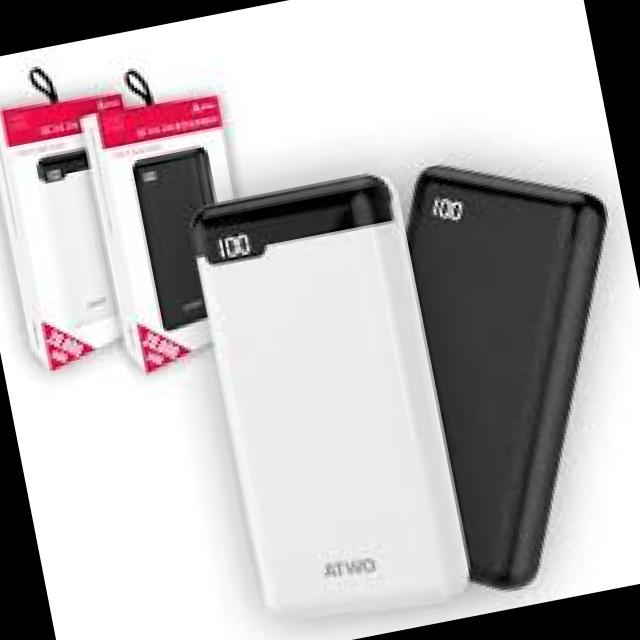power_bank: (189, 166, 481, 640), (397, 135, 640, 609), (129, 145, 243, 337), (36, 148, 126, 330)
